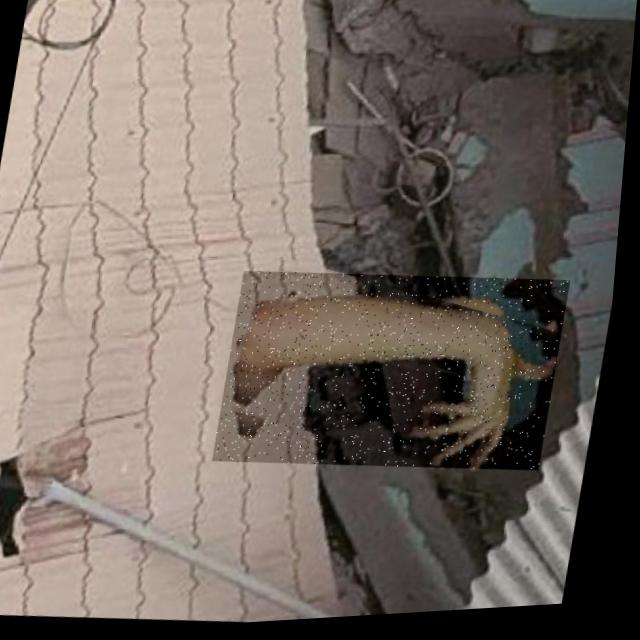Person in Rubble: (217, 258, 576, 492)
